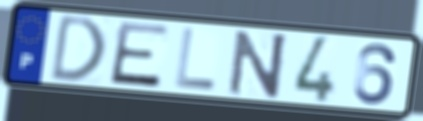4: (291, 34, 339, 105)
6: (353, 42, 398, 107)
D: (47, 12, 109, 83)
E: (107, 20, 173, 90)
L: (173, 26, 219, 93)
N: (226, 28, 290, 99)
